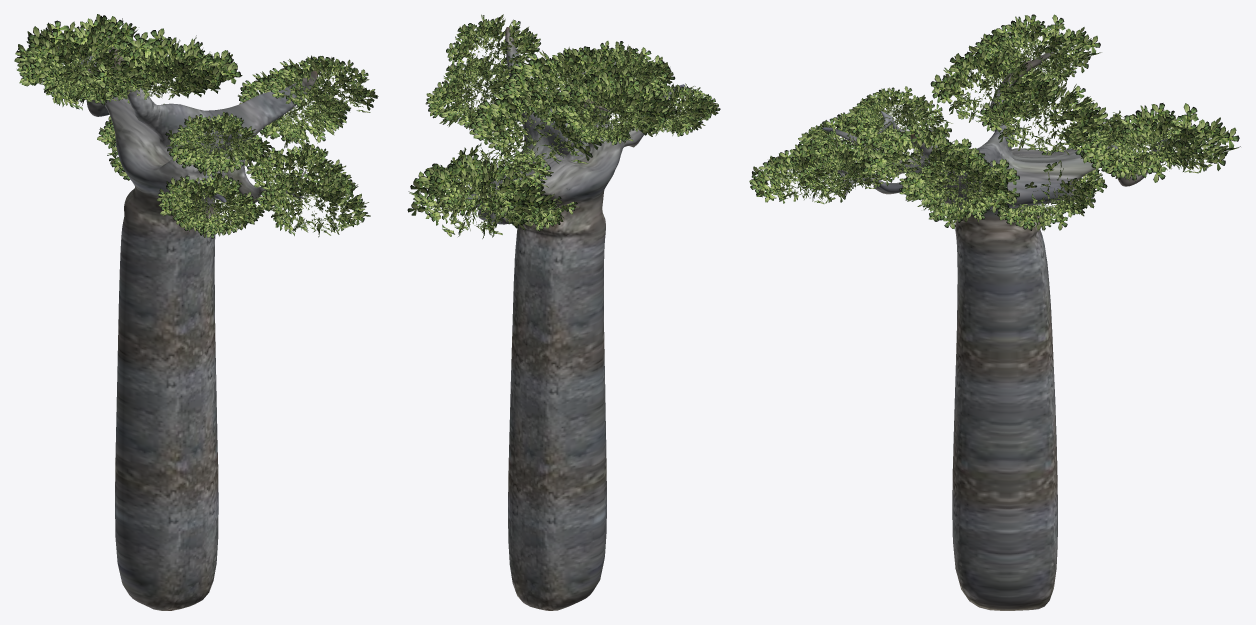
File: realistic_baobab_tree.glb
3 views of the same model, side by side, from view 1: azimuth 30°, elevation 25°; view 2: azimuth 150°, elevation 25°; view 3: azimuth 270°, elevation 25° (orthographic). The views are drawn at different scales.
Parts seen in each view (by area): view 1: Cube, baobab leaves.007, baobab leaves.013, baobab leaves.001, baobab leaves.009, baobab leaves.003, baobab leaves.002, baobab leaves.006, baobab leaves.004, baobab leaves.005, baobab leaves.012, baobab leaves.010 (+3 smaller); view 2: Cube, baobab leaves.010, baobab leaves.007, baobab leaves.017, baobab leaves.013, baobab leaves.011, baobab leaves.009, baobab leaves.012, baobab leaves.003, baobab leaves.016, baobab leaves.008, baobab leaves.004 (+5 smaller); view 3: Cube, baobab leaves.010, baobab leaves.013, baobab leaves.017, baobab leaves.007, baobab leaves.011, baobab leaves.009, baobab leaves.001, baobab leaves.012, baobab leaves.002, baobab leaves.016, baobab leaves.004 (+4 smaller).
Boxes of the visible parts, <box> form: Cube: <box>76,36,317,610</box>; baobab leaves.007: <box>17,25,150,108</box>; baobab leaves.013: <box>84,28,242,100</box>; baobab leaves.001: <box>256,169,370,237</box>; baobab leaves.009: <box>265,55,378,119</box>; baobab leaves.003: <box>156,172,260,234</box>; baobab leaves.002: <box>246,142,351,202</box>; baobab leaves.006: <box>165,125,271,176</box>; baobab leaves.004: <box>177,112,259,159</box>; baobab leaves.005: <box>171,191,264,238</box>; baobab leaves.012: <box>238,68,350,132</box>; baobab leaves.010: <box>14,14,153,110</box>; Cube: <box>467,27,684,610</box>; baobab leaves.010: <box>407,153,552,238</box>; baobab leaves.007: <box>551,71,676,143</box>; baobab leaves.017: <box>469,88,603,171</box>; baobab leaves.013: <box>503,47,633,131</box>; baobab leaves.011: <box>425,143,553,218</box>; baobab leaves.009: <box>446,14,540,76</box>; baobab leaves.012: <box>434,54,511,115</box>; baobab leaves.003: <box>622,82,720,135</box>; baobab leaves.016: <box>425,75,520,129</box>; baobab leaves.008: <box>571,101,643,145</box>; baobab leaves.004: <box>584,50,662,91</box>; Cube: <box>817,51,1180,610</box>; baobab leaves.010: <box>1088,103,1240,177</box>; baobab leaves.013: <box>930,44,1058,126</box>; baobab leaves.017: <box>980,78,1107,154</box>; baobab leaves.007: <box>967,14,1101,78</box>; baobab leaves.011: <box>1067,110,1203,182</box>; baobab leaves.009: <box>861,123,982,179</box>; baobab leaves.001: <box>749,143,866,203</box>; baobab leaves.012: <box>899,143,1019,200</box>; baobab leaves.002: <box>793,137,892,195</box>; baobab leaves.016: <box>899,173,1019,228</box>; baobab leaves.004: <box>852,86,935,130</box>.
Size of the model in its own units: 11.27 by 22.16 by 17.92.
2 materials, 2 textured.
